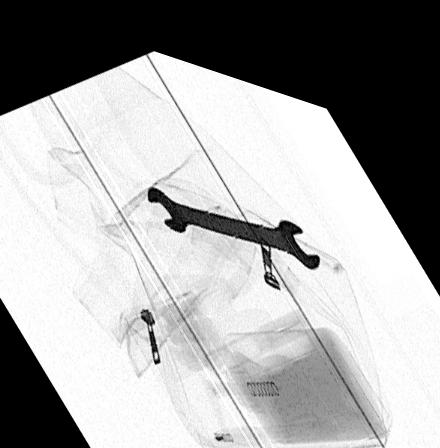Wrench: (144, 171, 320, 249)
